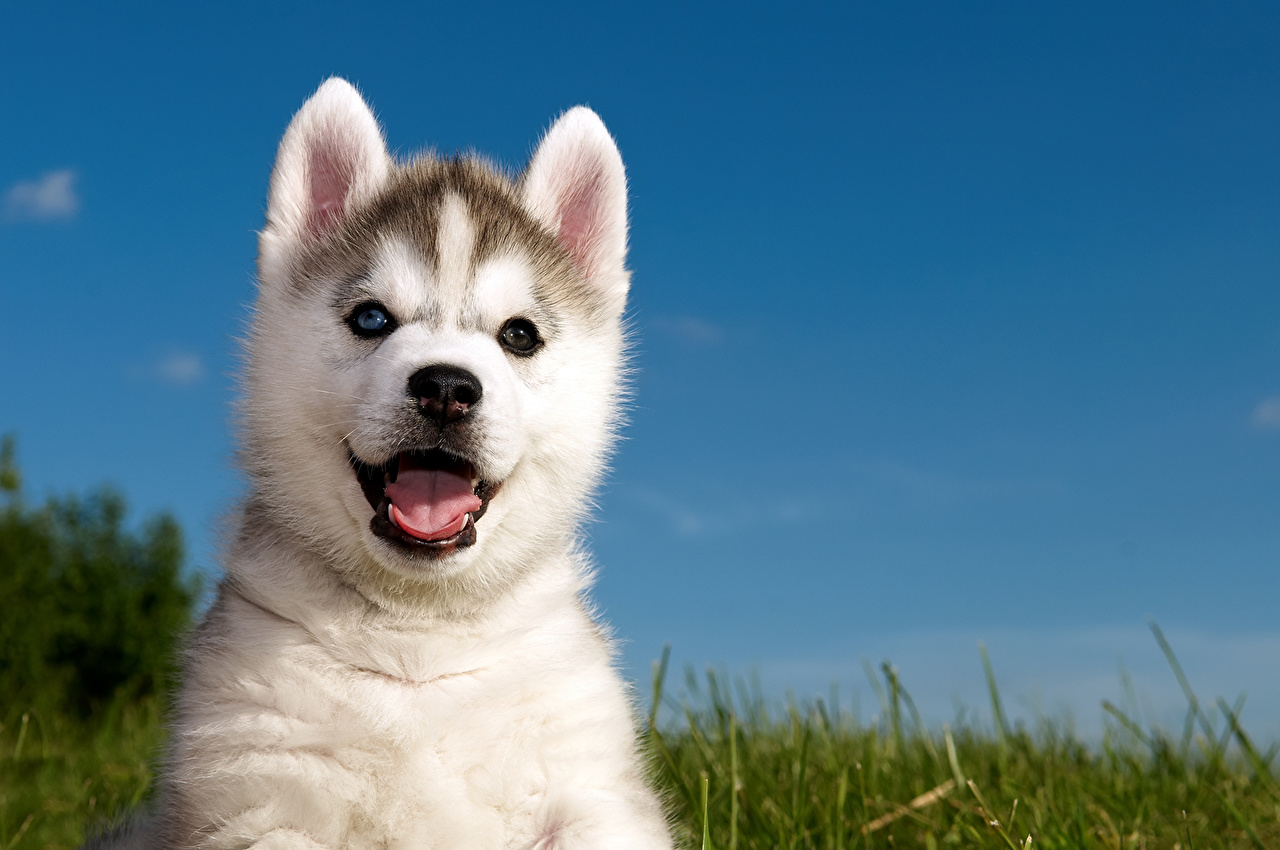husky: (217, 20, 700, 724)
